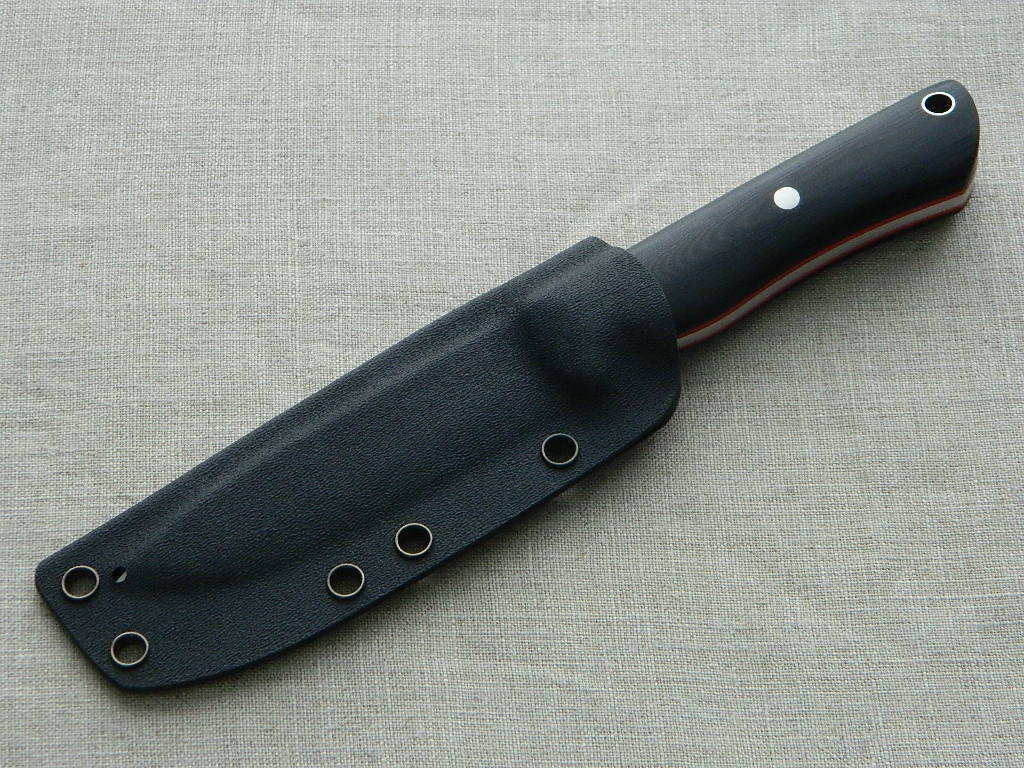knief: (101, 75, 981, 720)
